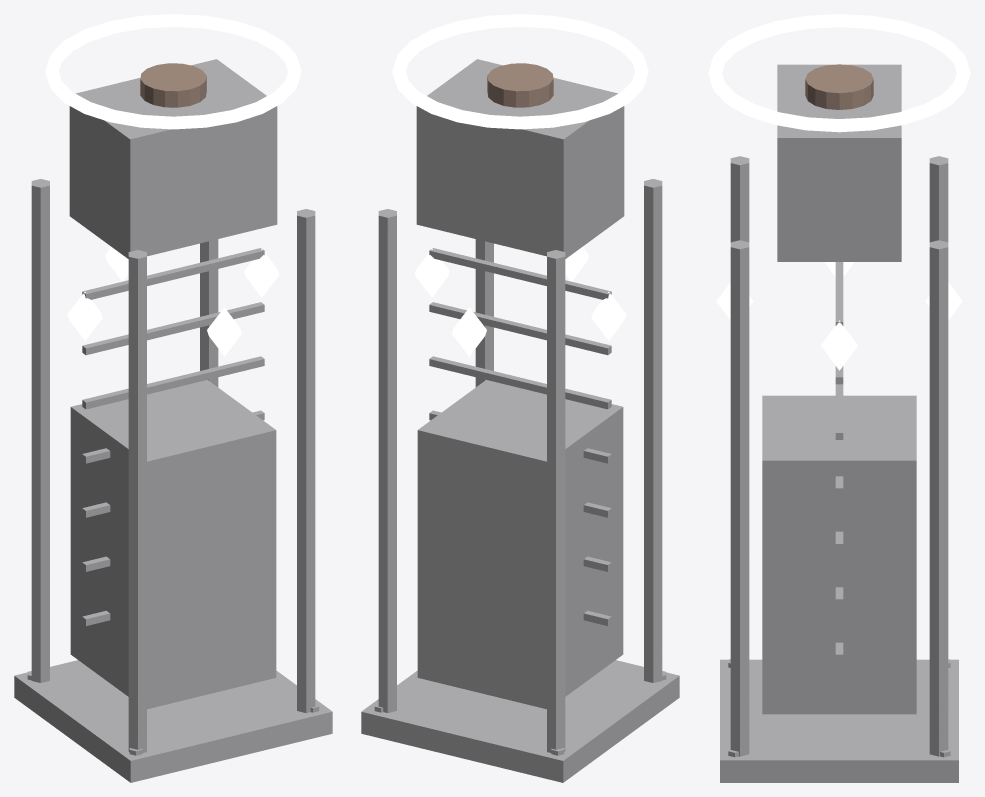
The model's file is elevator_divine.glb.
The picture shows the model from 3 angles, left to right: view 1: azimuth 30°, elevation 25°; view 2: azimuth 150°, elevation 25°; view 3: azimuth 270°, elevation 25°; orthographic projection. The views are drawn at different scales.
Parts seen in each view (by area): view 1: elevator, cage; view 2: elevator, cage; view 3: elevator, cage.
Part boxes in pixels (x1,y1,x2,y2): elevator: (14,14,332,782); cage: (70,380,276,709); elevator: (361,14,679,782); cage: (417,380,623,709); elevator: (708,14,970,782); cage: (762,395,916,714).
Size of the model in its own units: 1.69 by 4.72 by 1.69.
